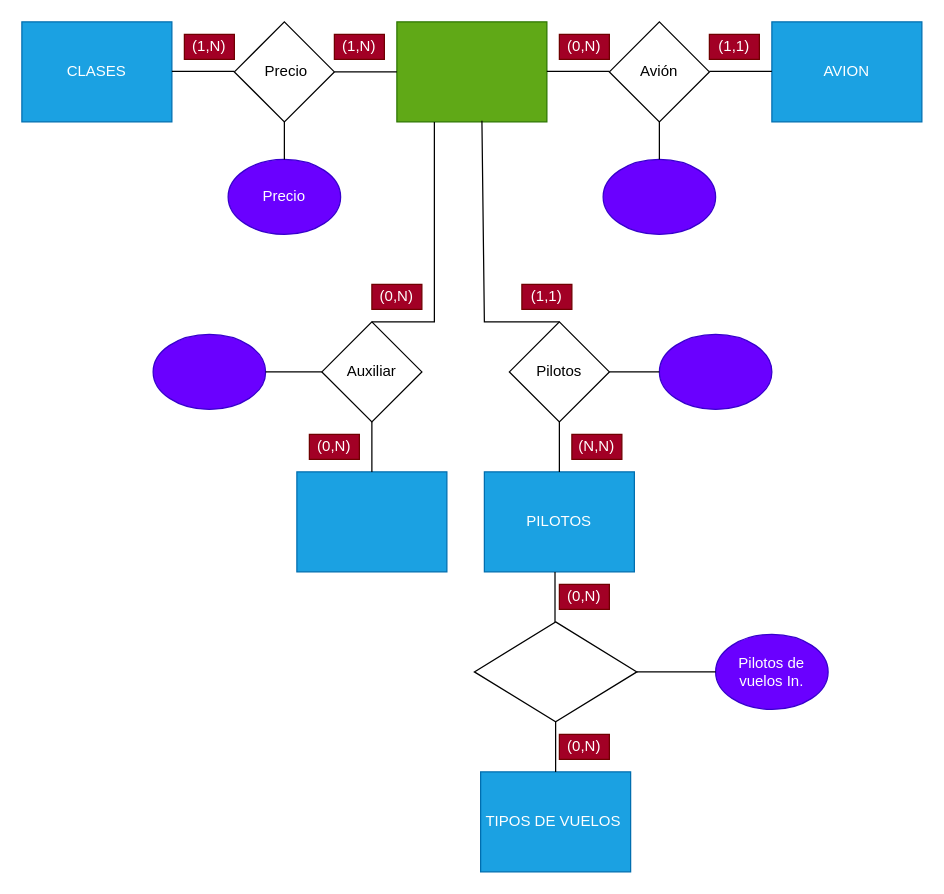
The diagram is 944 pixels wide and 894 high, and some of its shapes have lost their labels. Here are the shapes that lost their labels. From the top down, the centre of each, then its label:
At (x=471, y=71): "VUELO".
At (x=659, y=196): "Informacion del avion".
At (x=209, y=371): "Informacion de tripulacion".
At (x=715, y=371): "Rol de Piloto e informacion".
At (x=371, y=521): "PERSONAL AUXILIAR".
At (x=555, y=671): "V.Intercontinentales".
